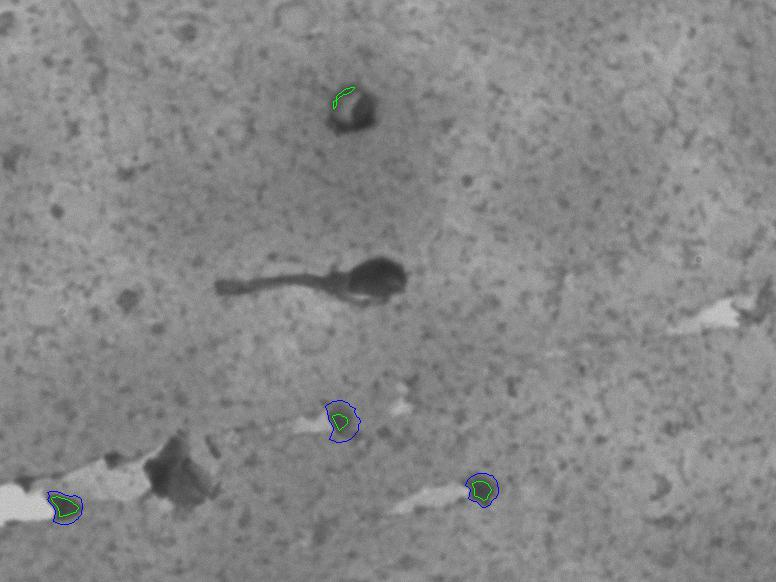Abnormal: (170, 213, 460, 343)
